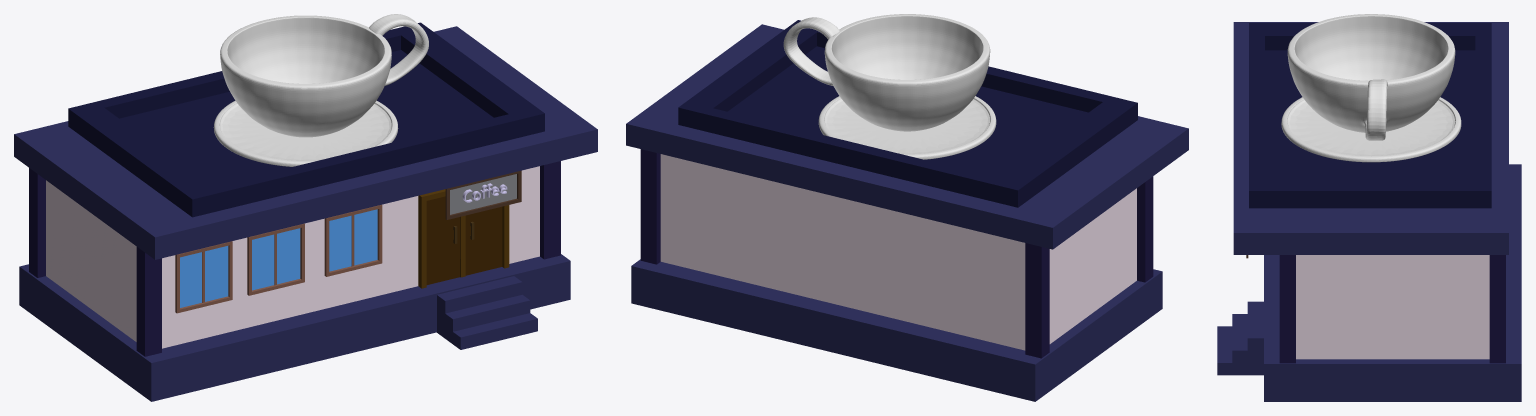
Rendered from coffee.fbx.
3 views of the same model, side by side, from view 1: azimuth 30°, elevation 25°; view 2: azimuth 150°, elevation 25°; view 3: azimuth 270°, elevation 25° (orthographic). The views are drawn at different scales.
Visible parts, largest first — view 1: Plane.026, Plane.018, Plane.017, Plane.016, Sphere, Cube.017, Circle, Cube.018, Plane.021, Plane.024, Plane.025, Plane.023 (+5 smaller); view 2: Plane.017, Plane.026, Plane.018, Plane.016, Sphere, Cube.017, Circle; view 3: Plane.026, Plane.017, Plane.018, Sphere, Plane.016, Circle, Cube.017, Cube.018.
Part boxes in pixels (box(x1,y1,x2,y2)): Plane.026: box(68, 22, 544, 217); Plane.018: box(14, 26, 597, 259); Plane.017: box(46, 166, 539, 348); Plane.016: box(19, 254, 570, 401); Sphere: box(220, 14, 428, 137); Cube.017: box(29, 161, 560, 356); Circle: box(213, 100, 398, 166); Cube.018: box(437, 276, 537, 349); Plane.021: box(426, 196, 502, 284); Plane.024: box(252, 228, 300, 290); Plane.025: box(329, 209, 377, 271); Plane.023: box(180, 246, 228, 307); Plane.017: box(660, 154, 1136, 350); Plane.026: box(678, 20, 1137, 207); Plane.018: box(626, 24, 1188, 249); Plane.016: box(631, 259, 1162, 401); Sphere: box(783, 14, 990, 131); Cube.017: box(640, 149, 1153, 358); Circle: box(818, 96, 996, 159); Plane.026: box(1249, 23, 1491, 208); Plane.017: box(1296, 255, 1489, 359); Plane.018: box(1233, 22, 1508, 254); Sphere: box(1287, 14, 1455, 140); Plane.016: box(1264, 164, 1521, 401); Circle: box(1281, 97, 1461, 162); Cube.017: box(1279, 255, 1505, 363); Cube.018: box(1217, 301, 1263, 375).
Bounding box in the file's own units: 4347 × 2524 × 2652.
